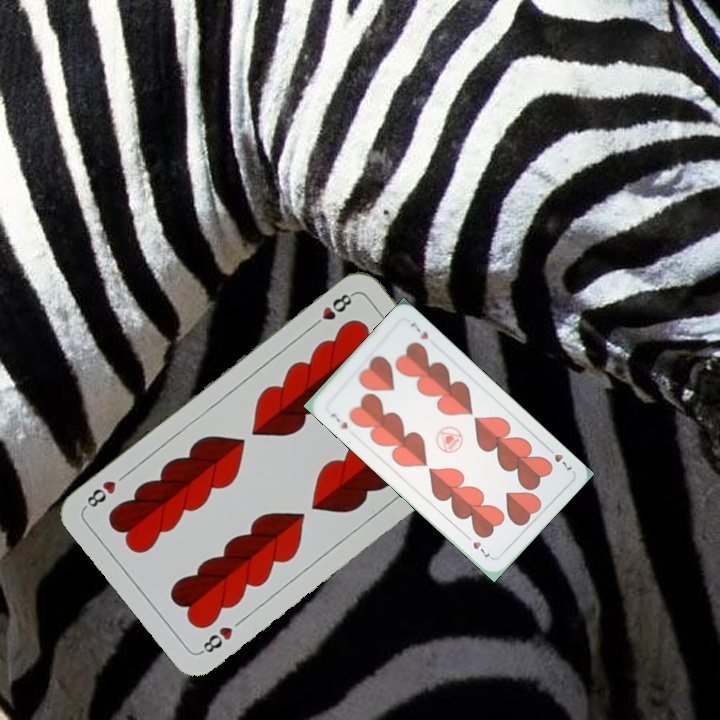H7: (542, 444, 574, 473), (326, 409, 350, 432)
H8: (307, 289, 357, 331), (196, 622, 236, 657)
